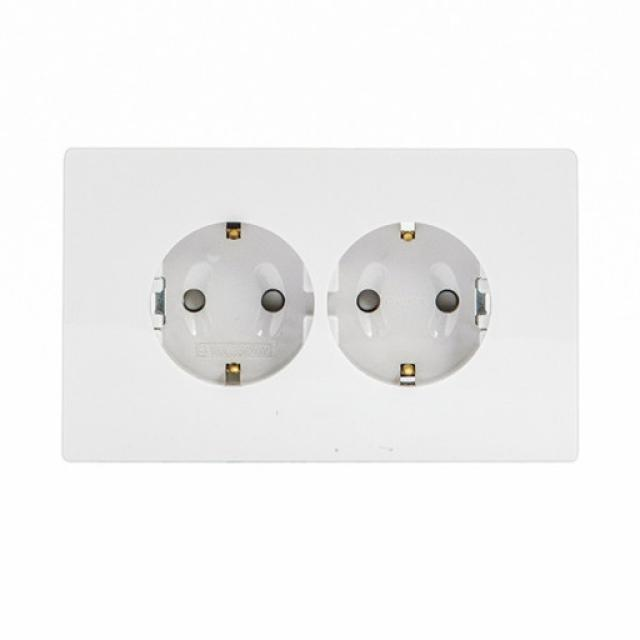typeb: (34, 106, 632, 566)
